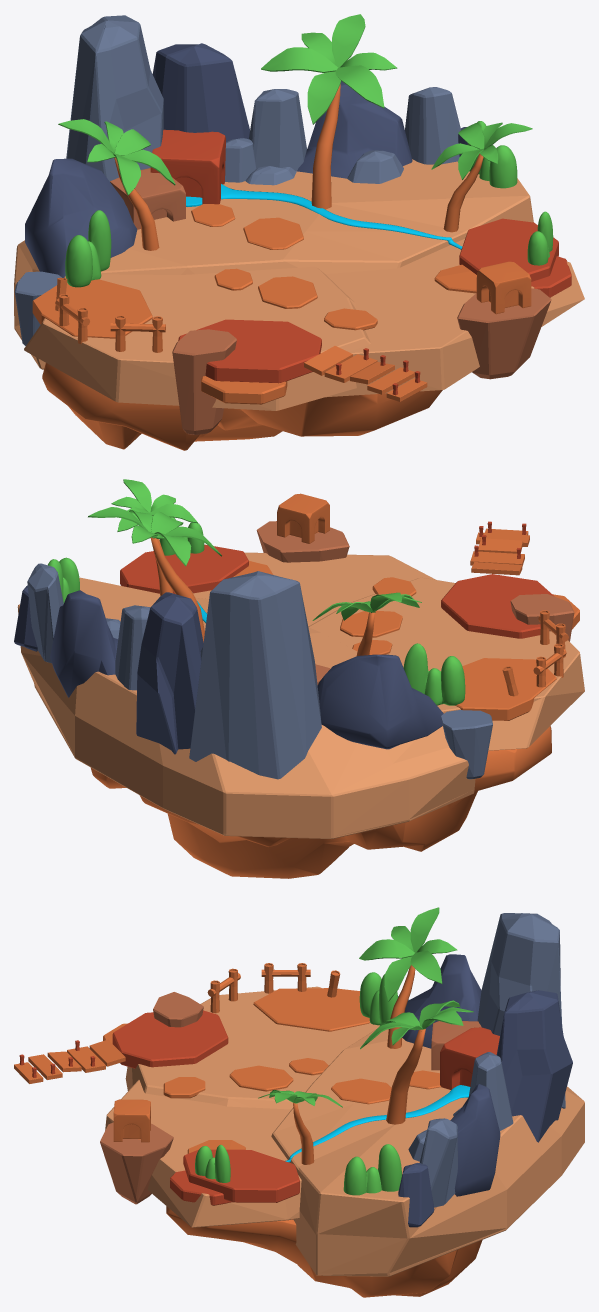
The model's file is menuIsland.fbx.
3 renders of one model, top to bottom at view 1: azimuth 30°, elevation 25°; view 2: azimuth 150°, elevation 25°; view 3: azimuth 270°, elevation 25°, orthographic. The views are drawn at different scales.
Visible parts, largest first — view 1: Plane.006, Cube.002, Plane, Plane.014, Plane.034, Plane.011, Plane.015, Plane.010, Plane.020, Plane.001, Plane.017, Plane.004 (+18 smaller); view 2: Plane.006, Plane.014, Cube.002, Plane.015, Plane.011, Plane, Plane.001, Plane.010, Plane.008, Plane.034, Plane.003, Sphere.001 (+10 smaller); view 3: Plane.006, Plane, Plane.015, Plane.014, Cube.002, Plane.010, Plane.004, Plane.008, Plane.001, Plane.020, Plane.034, Plane.011 (+14 smaller).
Boxes of the visible parts, <box> form: Plane.006: <box>14,159,584,410</box>; Cube.002: <box>42,363,442,450</box>; Plane: <box>32,204,476,338</box>; Plane.014: <box>66,15,163,181</box>; Plane.034: <box>261,14,397,209</box>; Plane.011: <box>25,158,137,277</box>; Plane.015: <box>152,43,249,142</box>; Plane.010: <box>178,319,321,383</box>; Plane.020: <box>457,288,551,379</box>; Plane.001: <box>297,81,412,178</box>; Plane.017: <box>172,329,236,434</box>; Plane.004: <box>58,119,175,250</box>; Plane.006: <box>17,552,584,838</box>; Plane.014: <box>189,571,321,779</box>; Cube.002: <box>91,726,551,878</box>; Plane.015: <box>136,592,203,754</box>; Plane.011: <box>317,654,443,749</box>; Plane: <box>233,561,556,720</box>; Plane.001: <box>50,590,118,697</box>; Plane.010: <box>441,574,554,638</box>; Plane.008: <box>120,544,248,593</box>; Plane.034: <box>88,507,221,642</box>; Plane.003: <box>441,710,492,779</box>; Sphere.001: <box>403,643,465,705</box>; Plane.006: <box>105,986,584,1276</box>; Plane: <box>163,988,441,1153</box>; Plane.015: <box>496,990,572,1142</box>; Plane.014: <box>477,913,565,1108</box>; Cube.002: <box>166,1206,482,1297</box>; Plane.010: <box>112,1010,228,1068</box>; Plane.004: <box>359,907,457,1048</box>; Plane.008: <box>183,1149,299,1202</box>; Plane.001: <box>450,1084,500,1196</box>; Plane.020: <box>100,1122,173,1204</box>; Plane.034: <box>360,1000,473,1124</box>; Plane.011: <box>402,954,481,1048</box>.
Size of the model in its own units: 3839 by 2734 by 4178.
